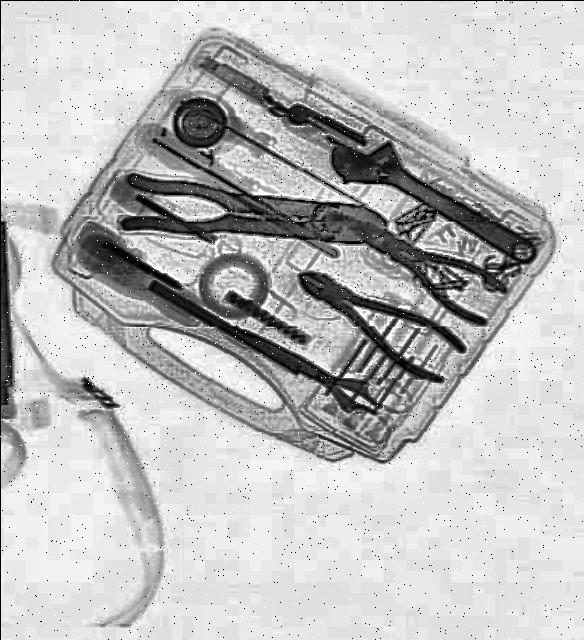Knife: (228, 311, 392, 423)
Pliers: (322, 186, 512, 328), (284, 248, 472, 388), (123, 170, 390, 254)
Wrench: (320, 115, 550, 278)
